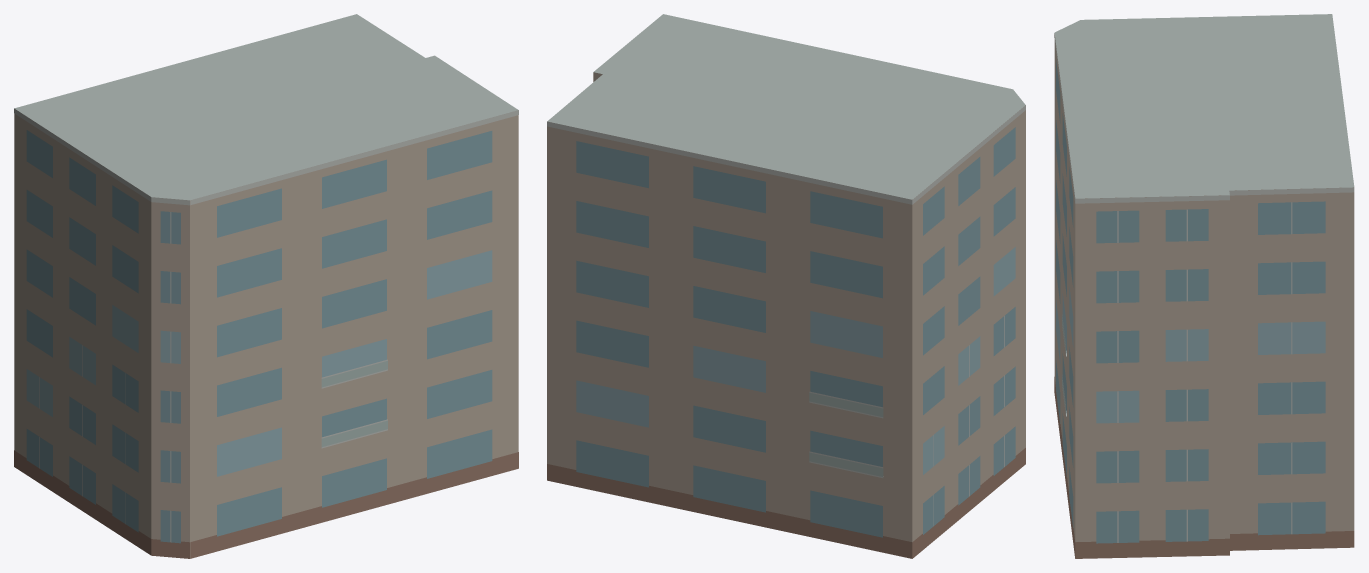
Rendered from survey-upis-32791485.glb.
3 views of the same model, side by side, from view 1: azimuth 30°, elevation 25°; view 2: azimuth 150°, elevation 25°; view 3: azimuth 270°, elevation 25° (orthographic).
Visible parts, largest first — view 1: survey-upis-32791485.tmp; view 2: survey-upis-32791485.tmp; view 3: survey-upis-32791485.tmp.
Boxes of the visible parts, box(x1,y1,x2,y2) form: survey-upis-32791485.tmp: box(14, 14, 518, 558); survey-upis-32791485.tmp: box(547, 14, 1025, 558); survey-upis-32791485.tmp: box(1054, 14, 1354, 558).
Size of the model in its own units: 19.25 by 17.5 by 13.22.
